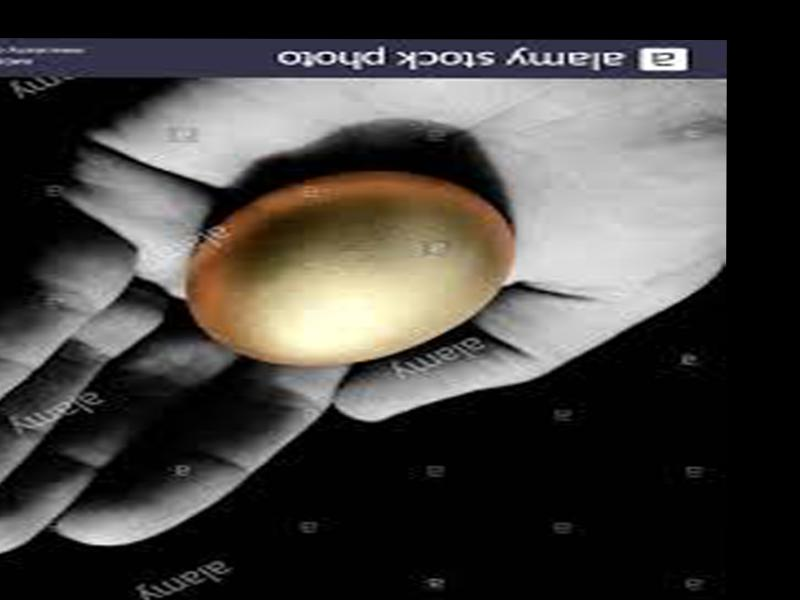Eggs: (184, 174, 510, 366)
